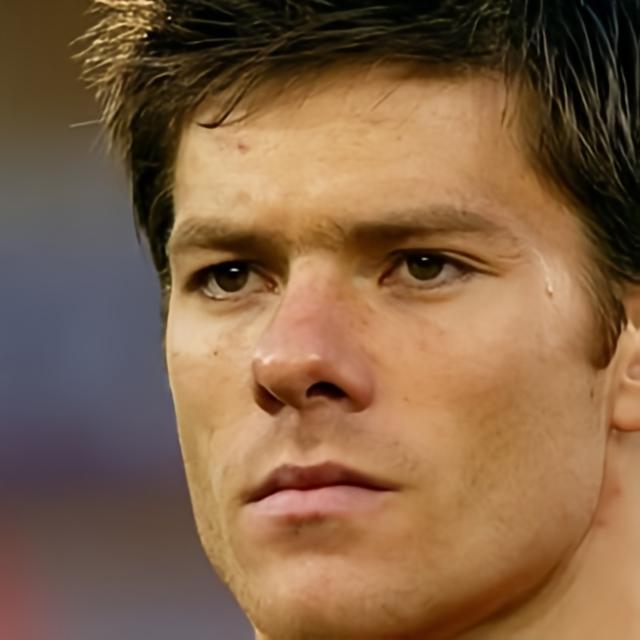anger: (164, 56, 602, 632)
